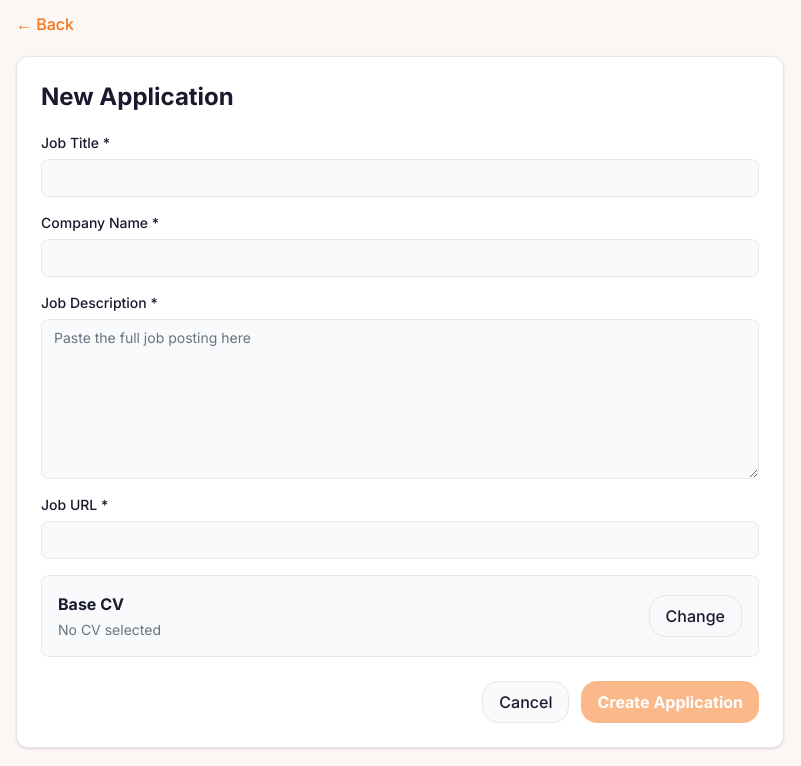
Test case: FE-UI-010 — NewApplicationPage layout and fields › enables Create Application only after required fields are filled
Check: the button "Create Application" is disabled, box x1=581 y1=681 x2=759 y2=723
Type "Software Engineer" into the field labelled "Job Title *" at point(400, 178), box x1=41 y1=159 x2=759 y2=197
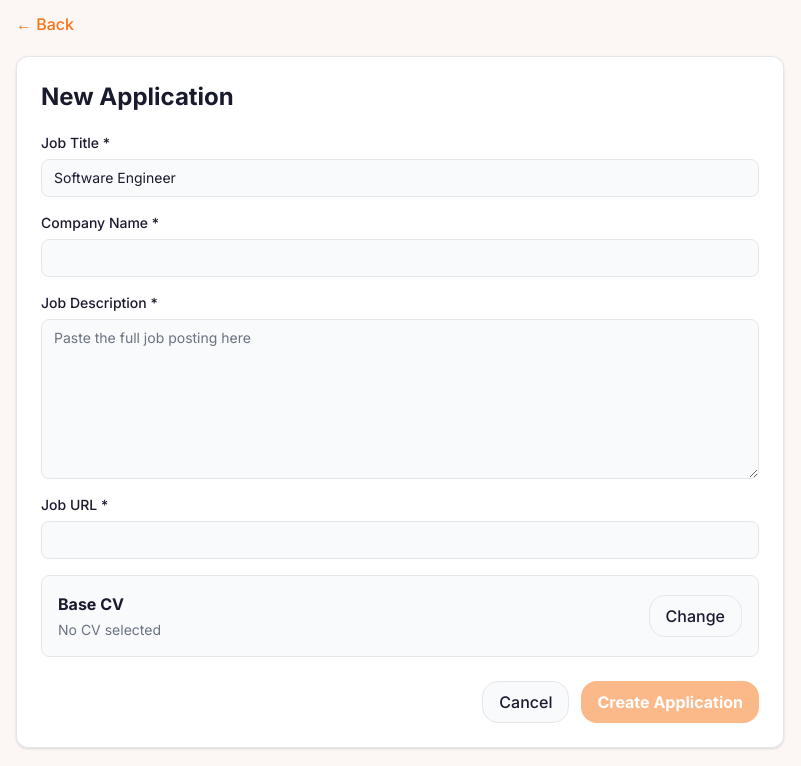
Type "Acme Corp" into the field labelled "Company Name *" at point(400, 258), box x1=41 y1=239 x2=759 y2=277
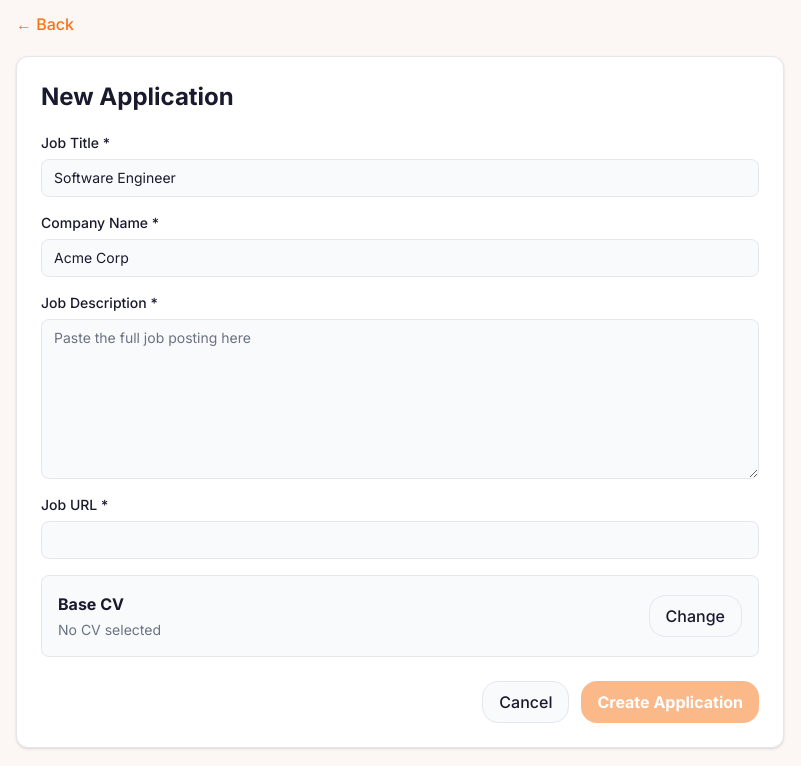
Type "Build resilient customer-facing frontend systems." into the text box labelled "Job Description *" at point(400, 399), box x1=41 y1=319 x2=759 y2=479
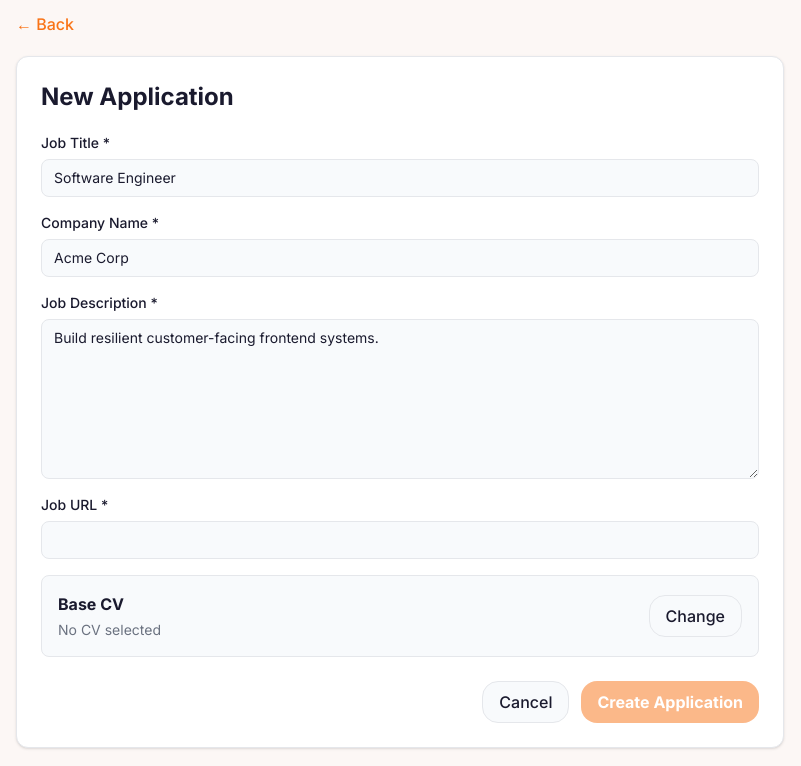
Check: the button "Create Application" is disabled, box x1=581 y1=681 x2=759 y2=723
Type "https://acme.example/jobs/1" into the field labelled "Job URL *" at point(400, 540), box x1=41 y1=521 x2=759 y2=559
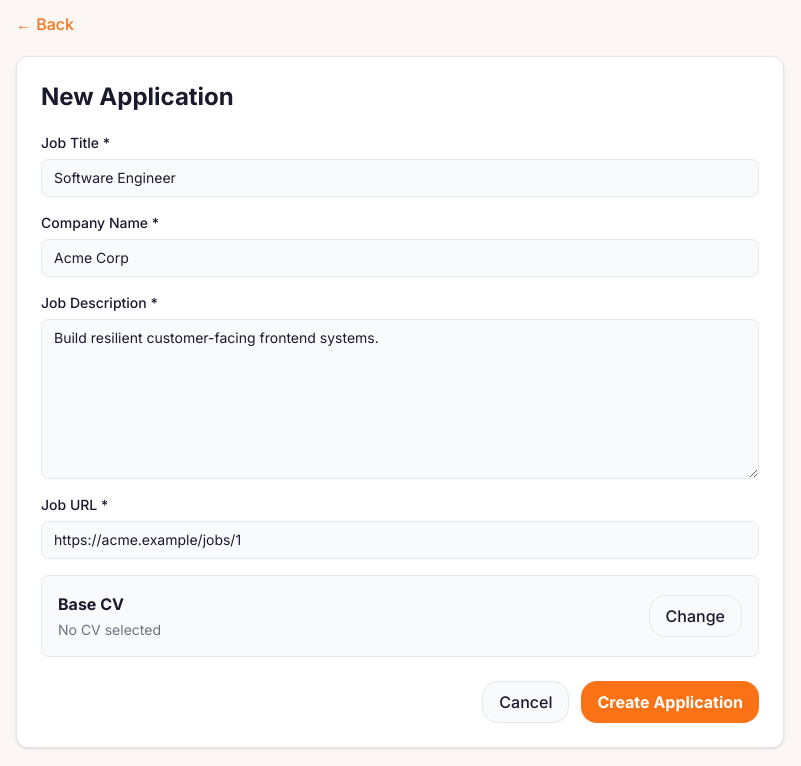
Check: the button "Create Application" is enabled, box x1=581 y1=681 x2=759 y2=723
